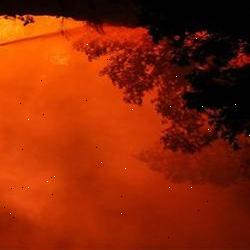fire: (0, 12, 80, 53)
